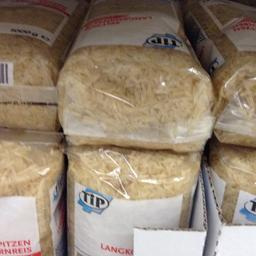rice: (58, 0, 214, 150), (60, 137, 202, 255), (183, 0, 255, 145), (0, 0, 80, 128), (0, 132, 65, 254)
